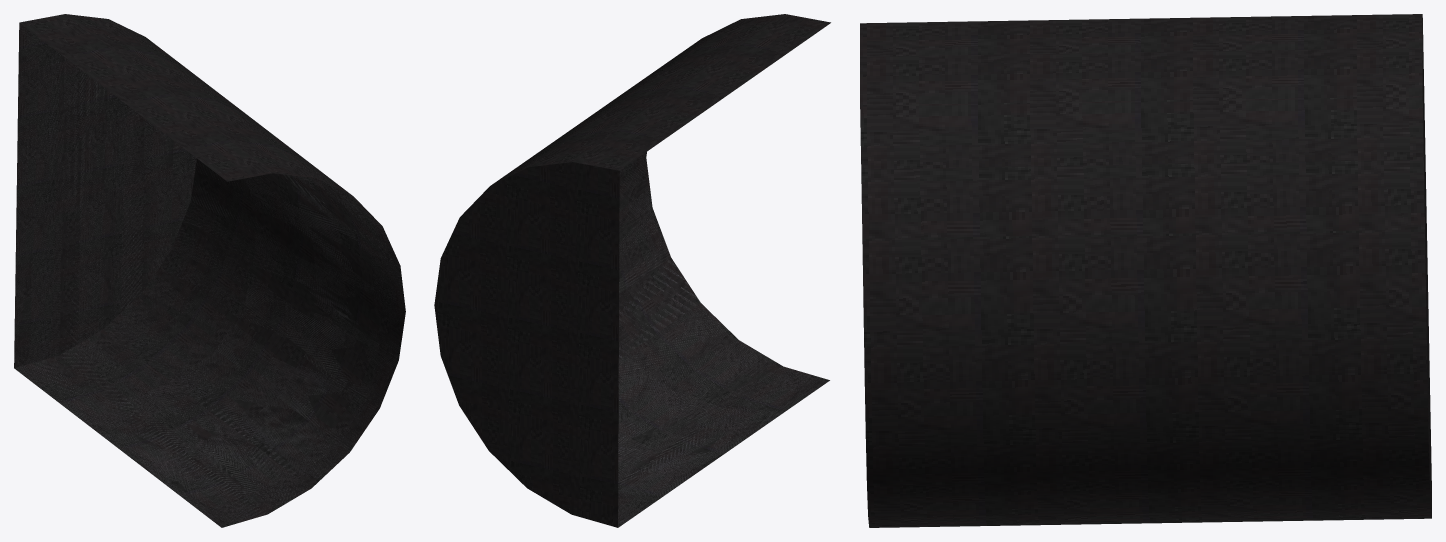
The model's file is original-246.obj.
3 renders of one model, left to right at view 1: azimuth 30°, elevation 25°; view 2: azimuth 150°, elevation 25°; view 3: azimuth 270°, elevation 25°, orthographic. The views are drawn at different scales.
Parts seen in each view (by area): view 1: Group9/mesh100/mesh100-geometry/material_1/component_54#mesh100-; view 2: Group9/mesh100/mesh100-geometry/material_1/component_54#mesh100-; view 3: Group9/mesh100/mesh100-geometry/material_1/component_54#mesh100-.
Part boxes in pixels (box(x1,y1,x2,y2)): Group9/mesh100/mesh100-geometry/material_1/component_54#mesh100-: box(14, 14, 405, 527); Group9/mesh100/mesh100-geometry/material_1/component_54#mesh100-: box(434, 14, 830, 527); Group9/mesh100/mesh100-geometry/material_1/component_54#mesh100-: box(860, 14, 1431, 527).
Size of the model in its own units: 0.0165 by 0.0307 by 0.0332.
Materials: 2 (2 with a texture image).
